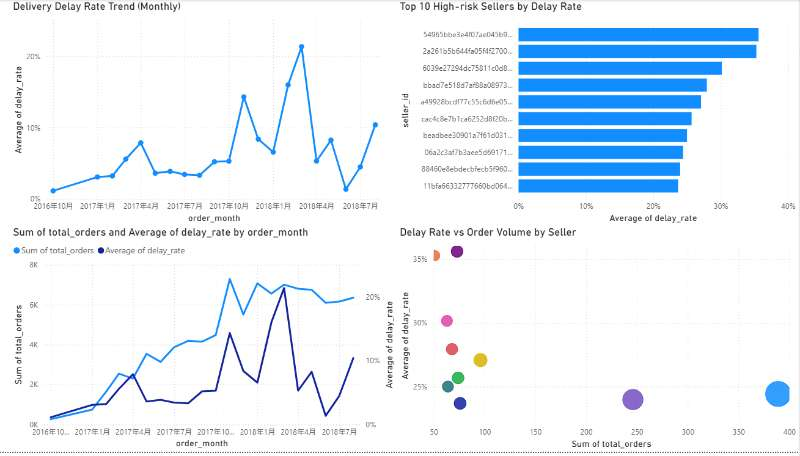

The dashboard page shown, as its layout file describes it:
{"tool":"powerbi","page":{"name":"Page 2","canvas":[1280,720],"ordinal":1},"visuals":[{"type":"lineChart","title":"Delivery Delay Rate Trend (Monthly)","fields":{"Y":["Avg(Delay_Trend.delay_rate)"],"Category":["Delay_Trend.order_month"]},"box":[24.3,0,615.7,359.9],"z":0},{"type":"clusteredBarChart","title":"Top 10 High-risk Sellers by Delay Rate","fields":{"Category":["Seller_Analysis.seller_id"],"Y":["Avg(Seller_Analysis.delay_rate)"]},"box":[640,0,640,359.9],"z":1000},{"type":"lineChart","fields":{"Y":["Sum(Delay_Trend.total_orders)"],"Y2":["Avg(Delay_Trend.delay_rate)"],"Category":["Delay_Trend.order_month"]},"box":[24.3,359.9,615.7,359.9],"z":1001},{"type":"scatterChart","title":"Delay Rate vs Order Volume by Seller","fields":{"X":["Sum(Seller_Analysis.total_orders)"],"Y":["Avg(Seller_Analysis.delay_rate)"],"Size":["Sum(Seller_Analysis.total_orders)"],"Series":["Seller_Analysis.seller_id"]},"box":[640,359.9,640,359.9],"z":1002}]}

Visuals, with their boxes in screenshot pixels (x1, y1, x2, y2), scaled from the page's 1280x720 canvas onto the 800x456 screenshot:
"Delivery Delay Rate Trend (Monthly)" lineChart: {"x1": 15, "y1": 0, "x2": 400, "y2": 228}
"Top 10 High-risk Sellers by Delay Rate" clusteredBarChart: {"x1": 400, "y1": 0, "x2": 799, "y2": 228}
lineChart - Sum(Delay_Trend.total_orders) x Avg(Delay_Trend.delay_rate): {"x1": 15, "y1": 228, "x2": 400, "y2": 455}
"Delay Rate vs Order Volume by Seller" scatterChart: {"x1": 400, "y1": 228, "x2": 799, "y2": 455}
